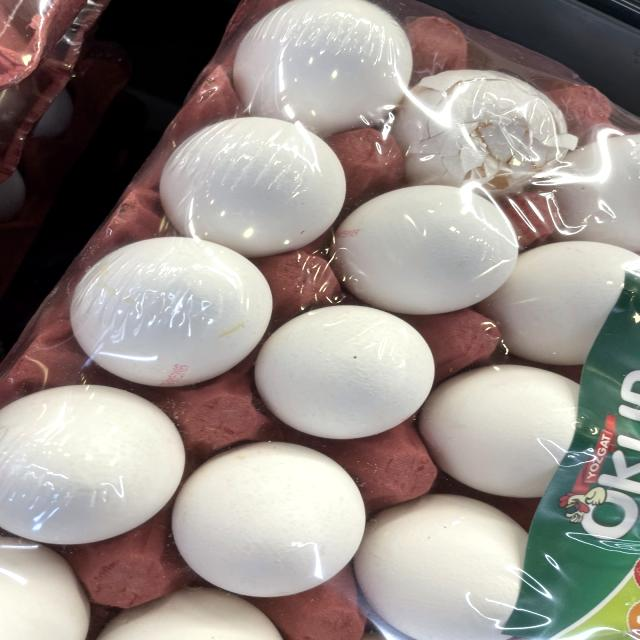egg: (0, 369, 197, 551), (61, 232, 279, 393), (165, 433, 372, 601), (250, 297, 438, 445), (331, 174, 525, 316), (227, 3, 421, 129)
